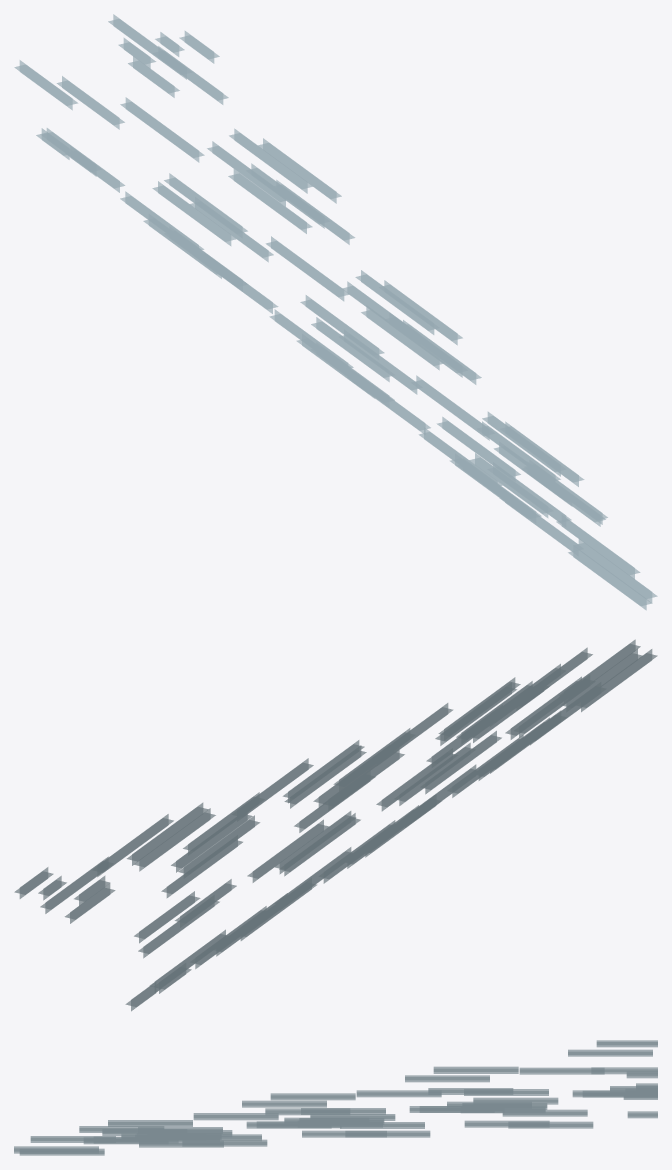
File: wp_water_282.obj
3 views of the same model, one above another, from view 1: azimuth 30°, elevation 25°; view 2: azimuth 150°, elevation 25°; view 3: azimuth 270°, elevation 25° (orthographic). The views are drawn at different scales.
Bounding box in the file's own units: 0.3333 × 0.3397 × 1.82.
1 material, 1 textured.
